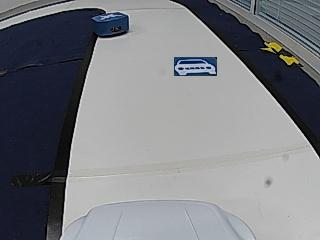prop: (92, 13, 128, 38)
